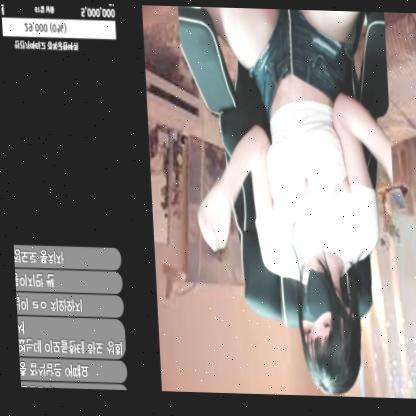streamer: (186, 4, 400, 395)
